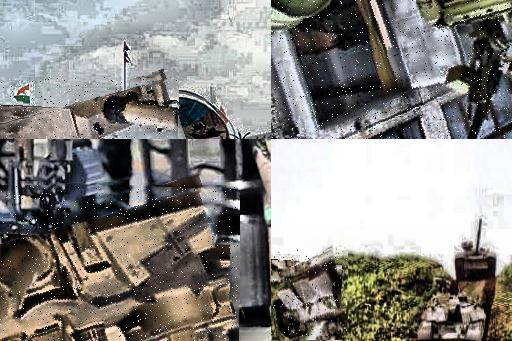tanks: (1, 187, 239, 341), (417, 1, 512, 140), (1, 79, 179, 140), (272, 250, 348, 337), (419, 280, 488, 341), (456, 220, 497, 282)
